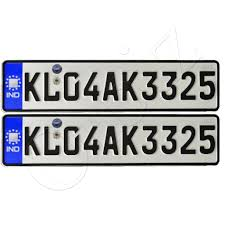inlp: (1, 112, 225, 170), (1, 57, 221, 112)
